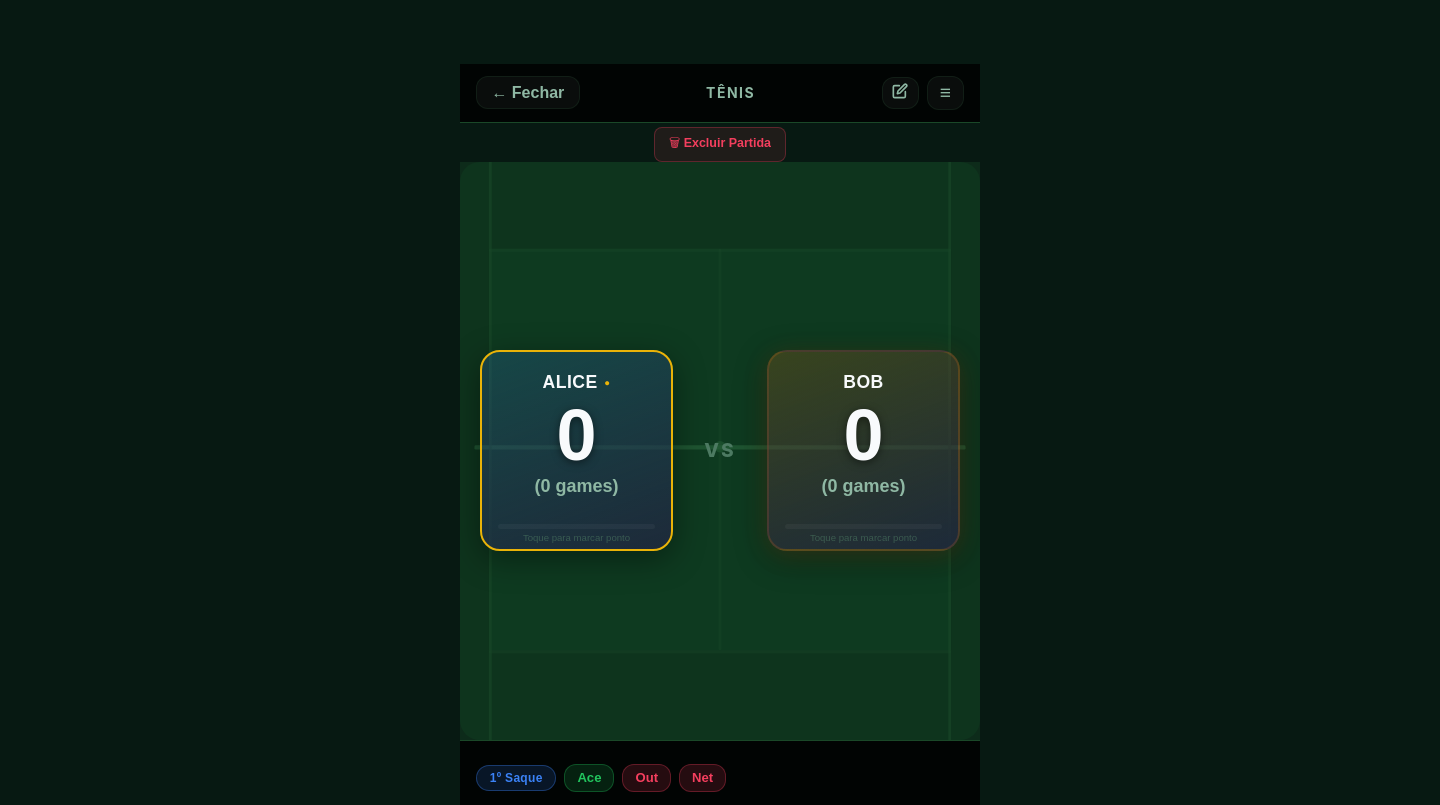
Test case: ScoreboardV2 - Delete & Undo Integration › Delete Match › should open delete confirmation modal when delete button clicked
What coordinates should you click on to do the following:
click the button "🗑 Excluir Partida"
I would click on:
 (720, 144)
Its box is 654,127 -> 786,162.
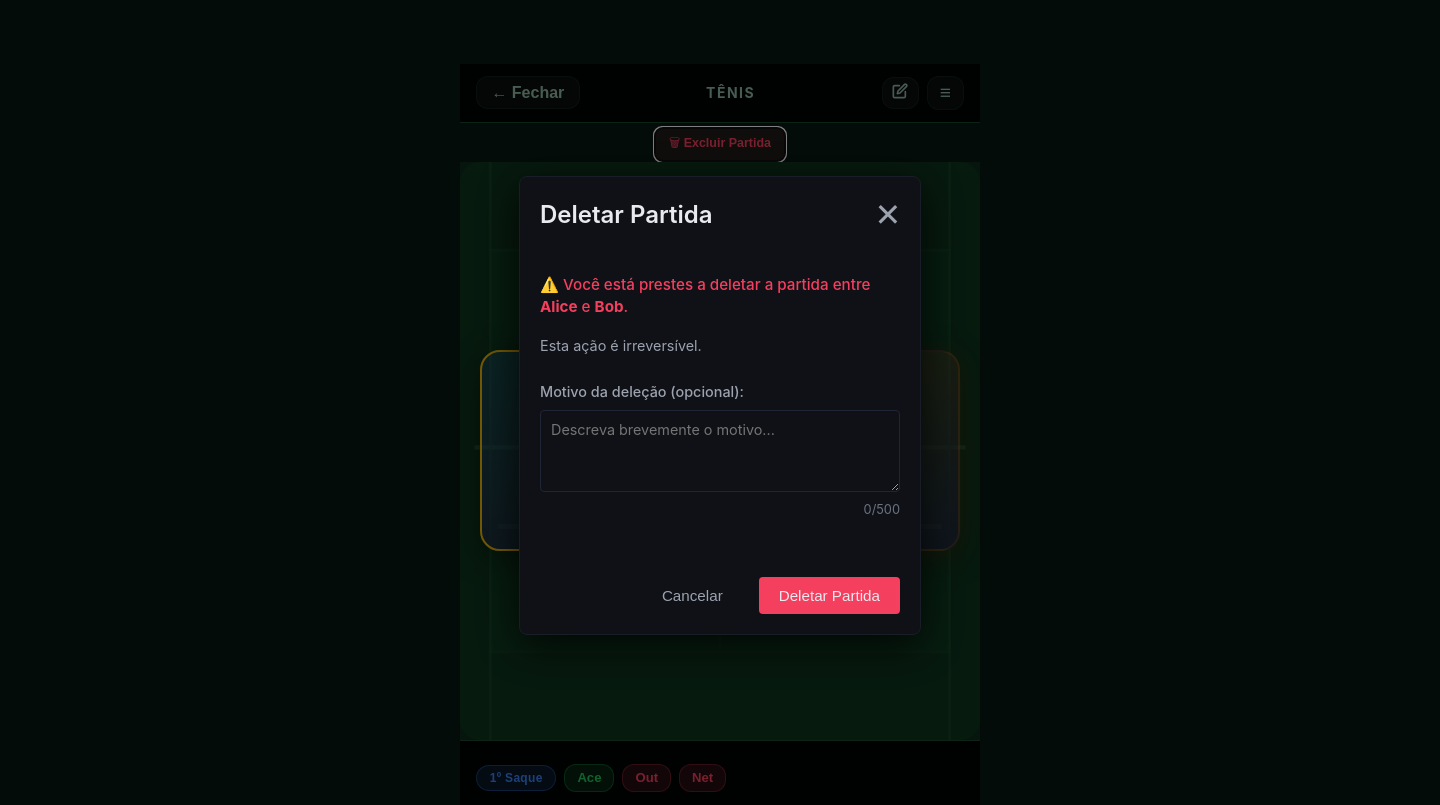
Check: the heading "Deletar Partida" is shown, box 540,196 -> 712,232
